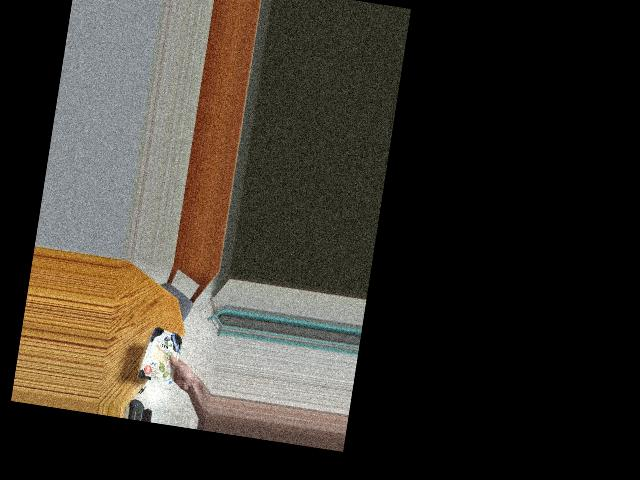cheese: (140, 329, 190, 378)
